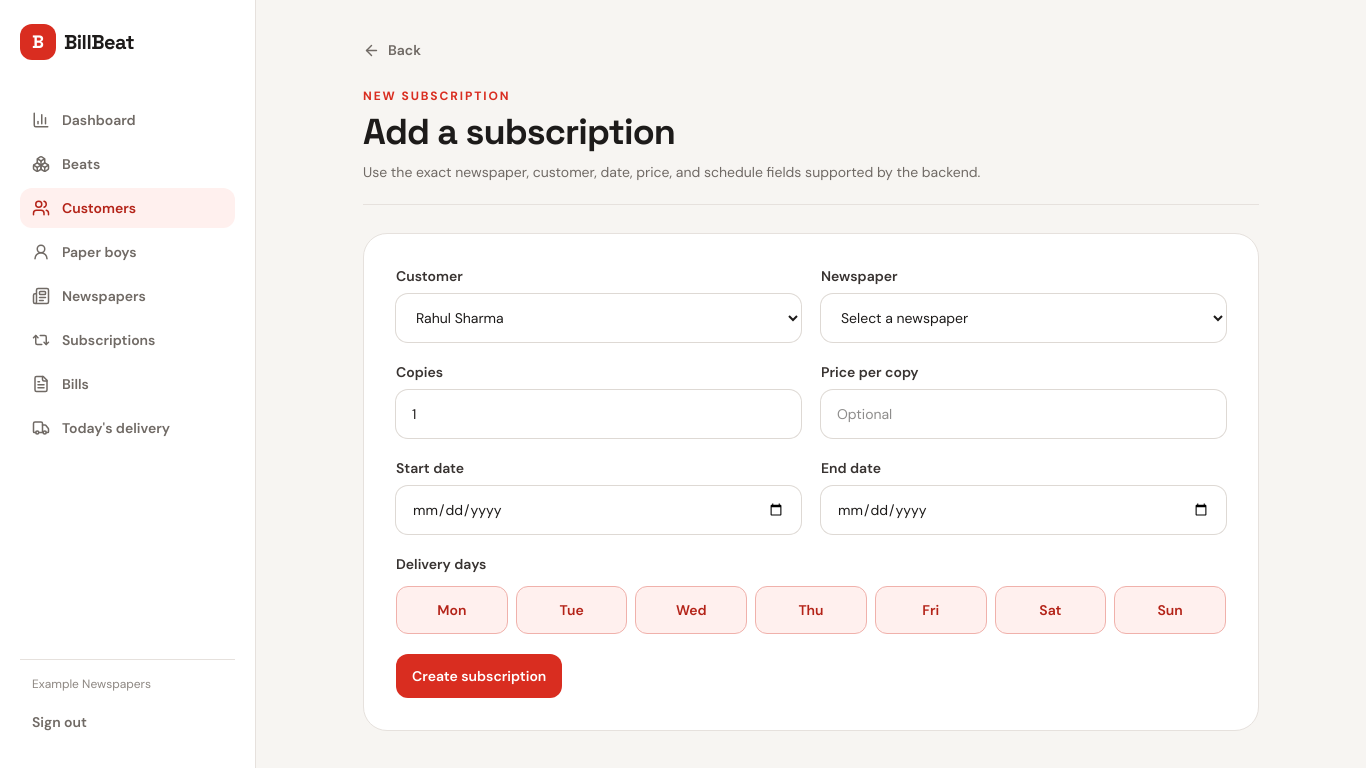
subscription forms › validates required subscription fields
The width and height of the screenshot is (1366, 768).
Select "Daily News" in the dropdown labelled "Newspaper": coordinates (1024, 318) [821,294,1226,342]
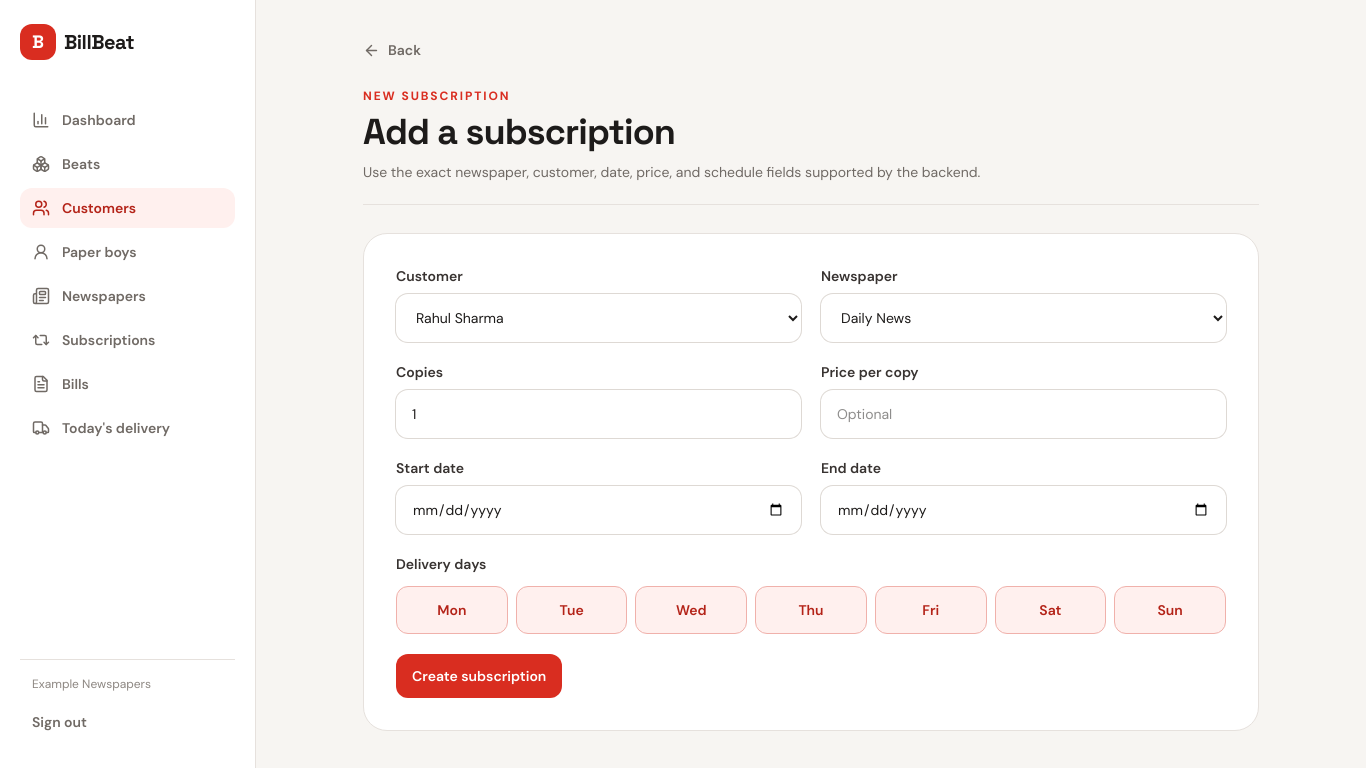
Click the button "Create subscription": coordinates (479, 676) [396,654,562,698]
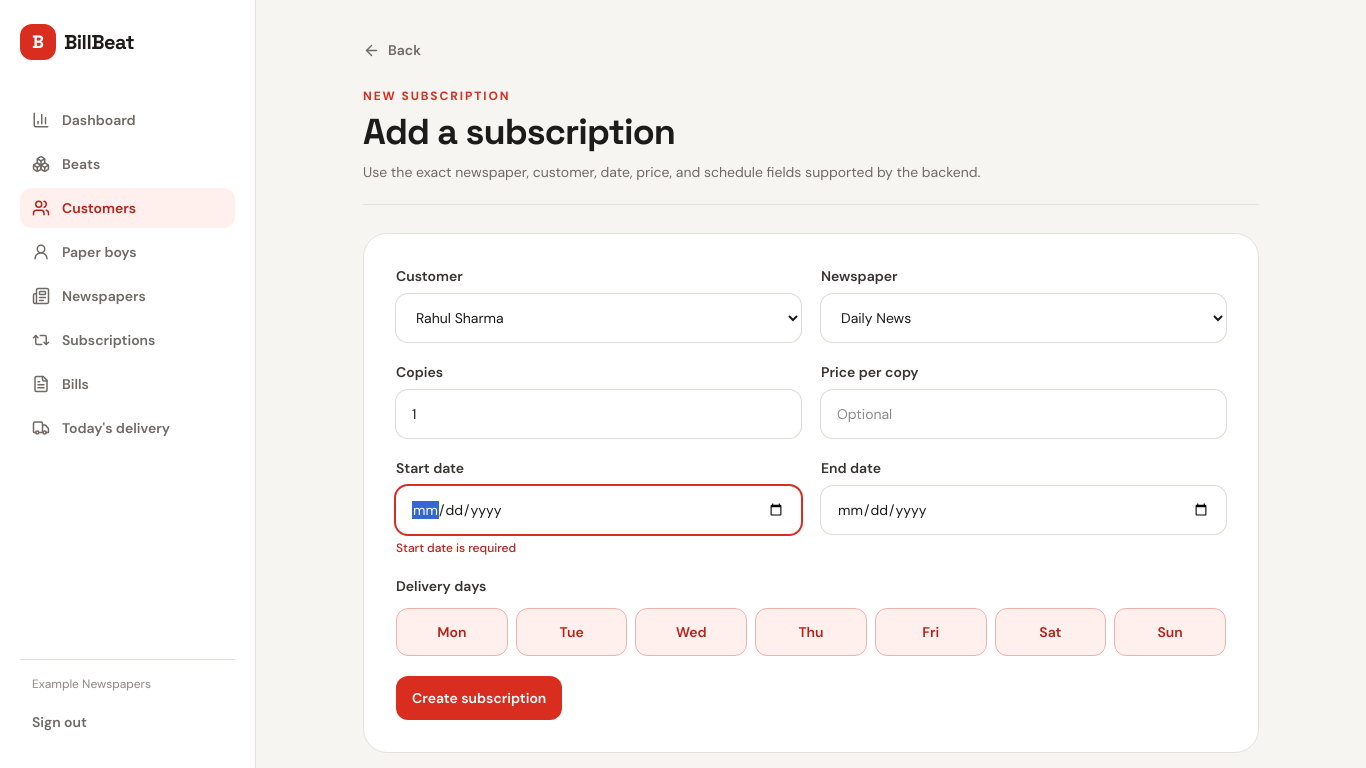
Result: the text "Start date is required" is shown at [396,540,516,556]
